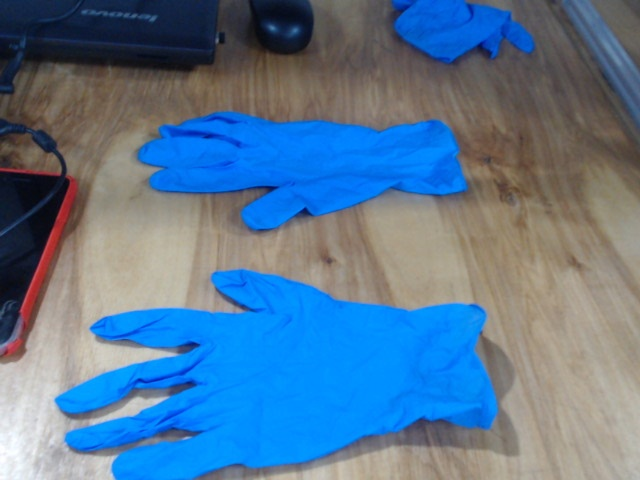medical_glove: (55, 272, 497, 480), (138, 111, 468, 228)
